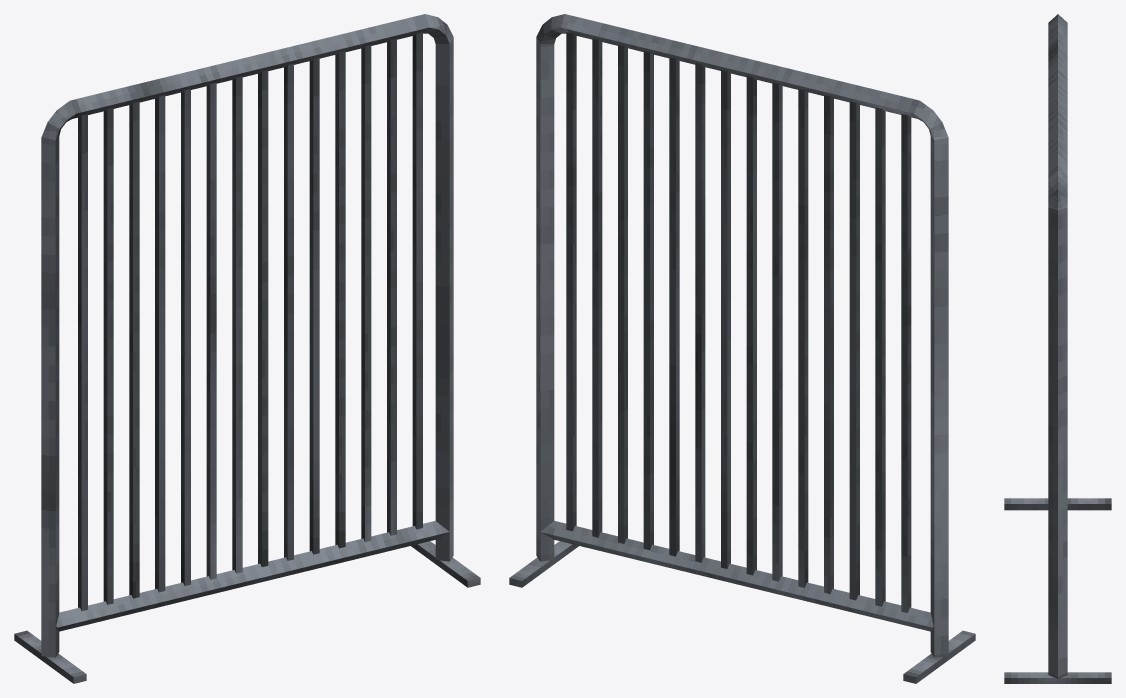
Rendered from riot_fence_tall.gltf.
3 renders of one model, left to right at view 1: azimuth 30°, elevation 25°; view 2: azimuth 150°, elevation 25°; view 3: azimuth 270°, elevation 25°, orthographic. The views are drawn at different scales.
Parts seen in each view (by area): view 1: riot_fence; view 2: riot_fence; view 3: riot_fence.
Part boxes in pixels (left/top/right/bottom): riot_fence: left=14, top=14, right=480, bottom=683; riot_fence: left=509, top=14, right=975, bottom=683; riot_fence: left=1004, top=14, right=1111, bottom=683.
Size of the model in its own units: 2 by 2.58 by 0.5.
Materials: 1 (1 with a texture image).
